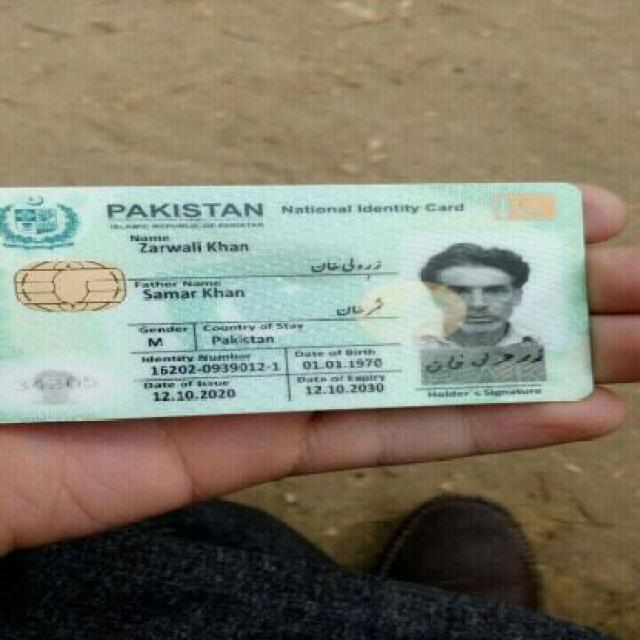Front: (3, 180, 605, 408)
